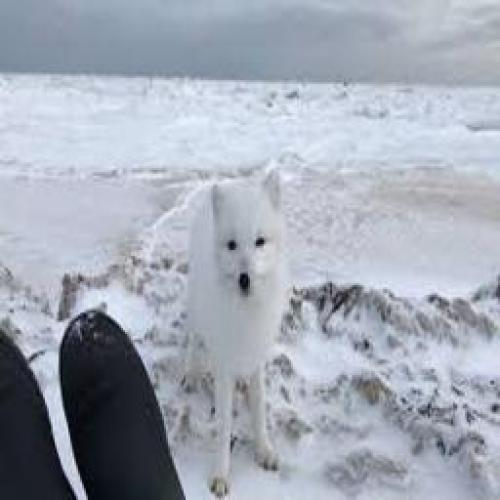arctic_fox-endangered: (186, 183, 292, 485)
